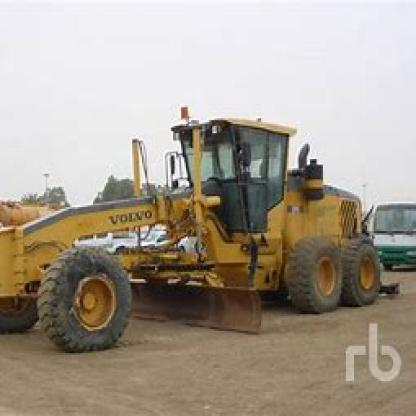bull_dozer/loader/grader: (3, 98, 378, 346)
